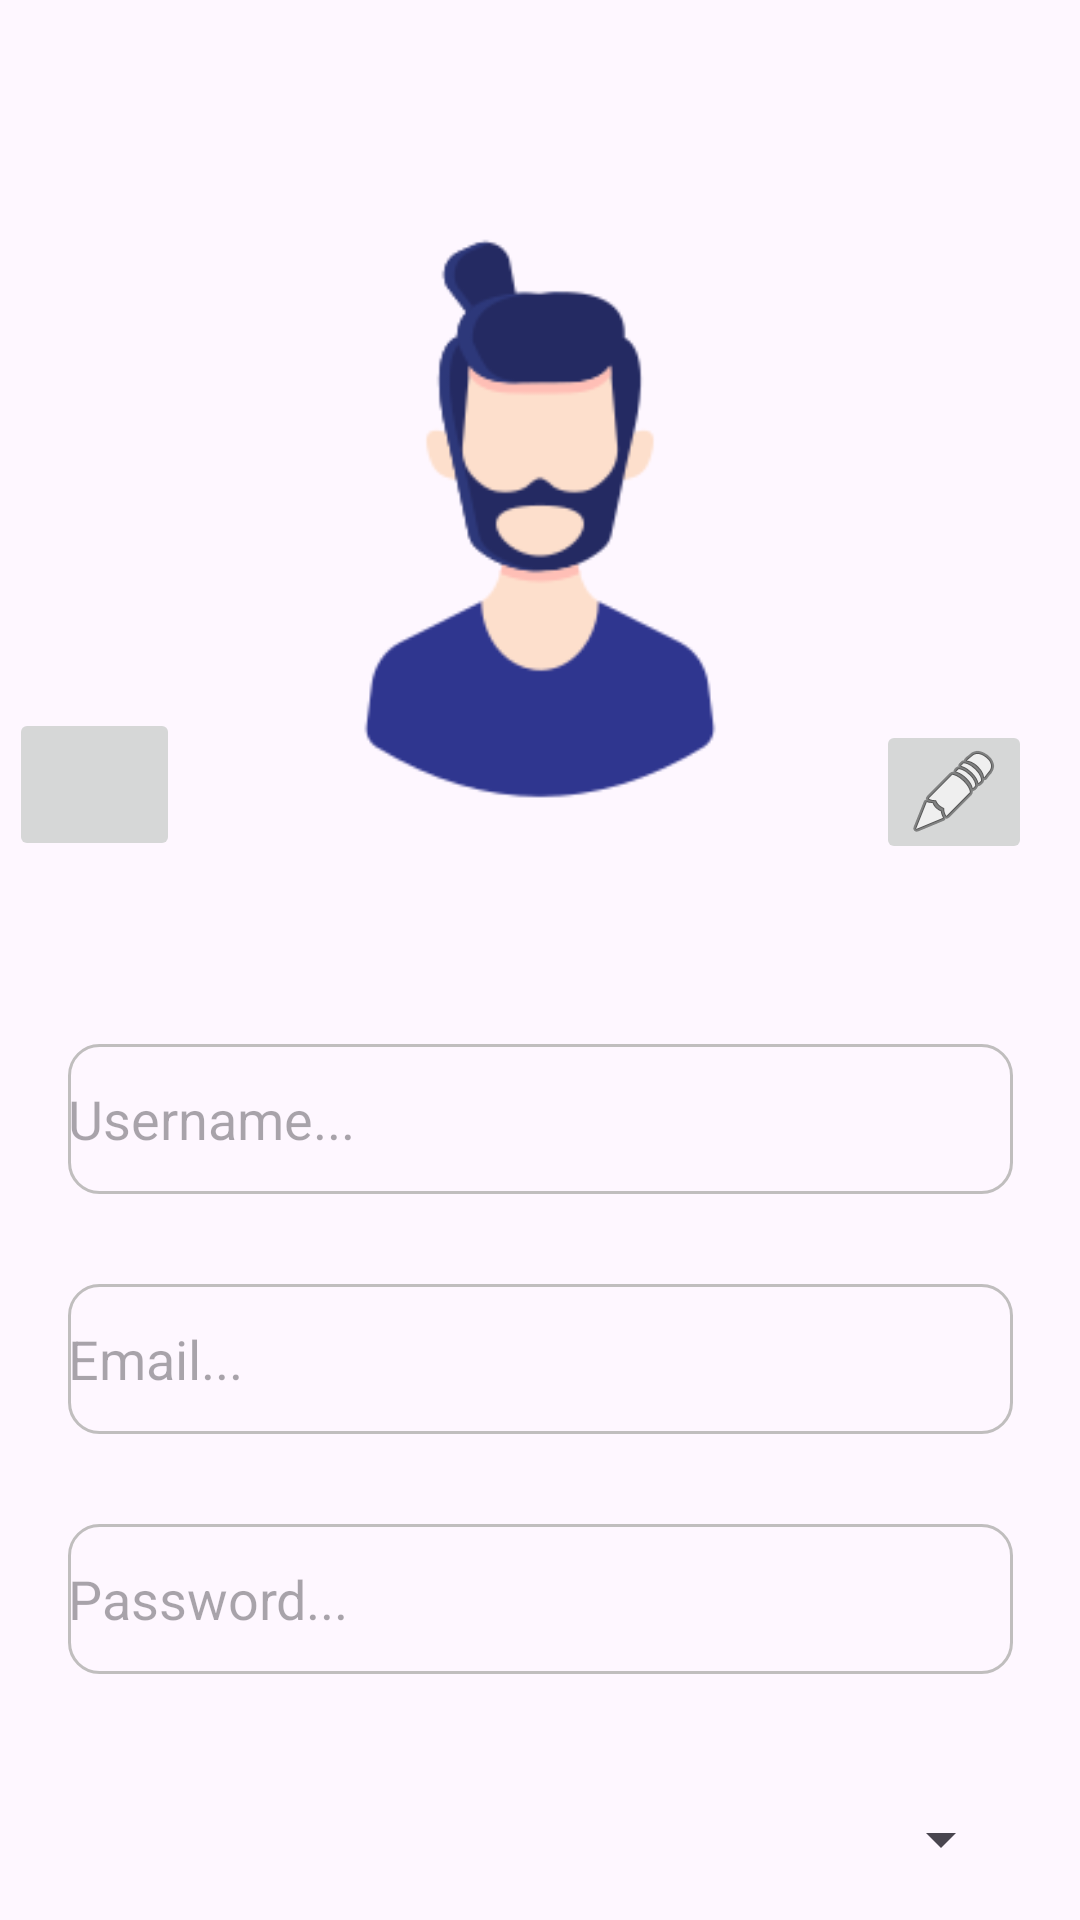

Screen size 1080 x 1920. Icon name, then its center in pixels as [x,y]:
edit: [954,792]
